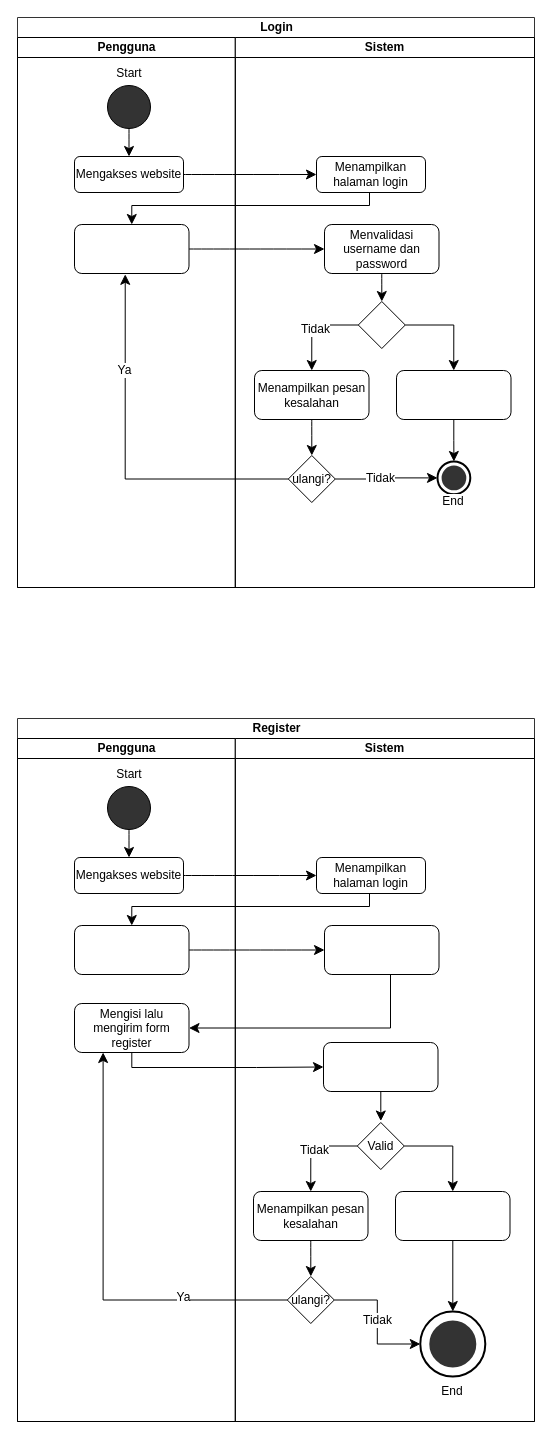
This 552x1439 diagram has some shape labels left out. The box of each missing label's shape, as (x1, y1, x2, y2) in pixels:
Memasukan username dan password: (74, 224, 189, 274)
Menampilkan halaman register: (324, 924, 439, 974)
Menampilkan Halaman utama: (396, 370, 511, 420)
Menampilkan pesan berhasil: (394, 1190, 510, 1240)
Menekan tombol register: (74, 924, 189, 974)
Mengecek data: (322, 1042, 438, 1092)
Valid?: (357, 300, 405, 348)
